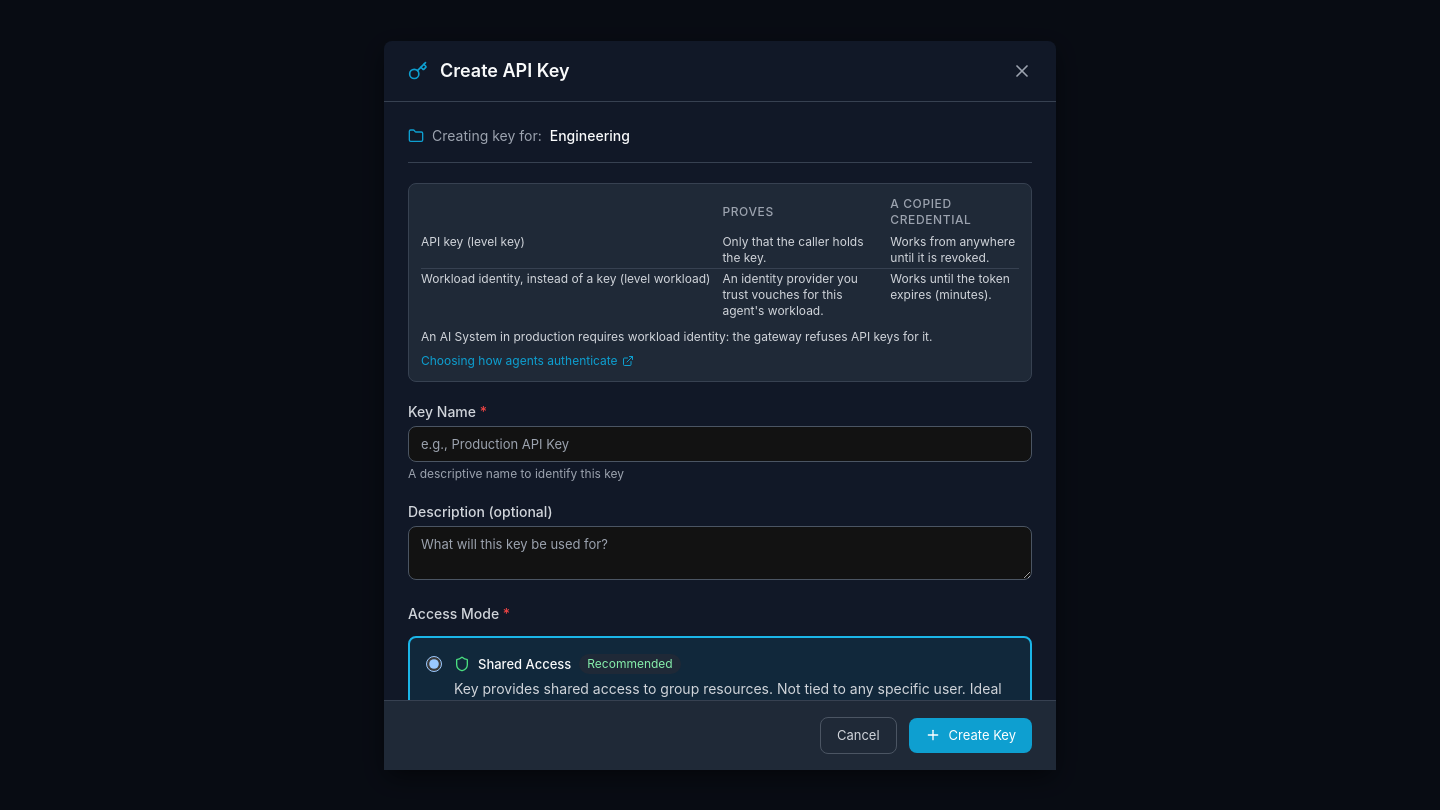
Test: CreateGroupKeyModal › a create the identity policy refuses says what the policy requires
Type "k" into the field with placeholder "e.g., Production API Key".
click(720, 444); type("k")  # box [408,426,1032,462]
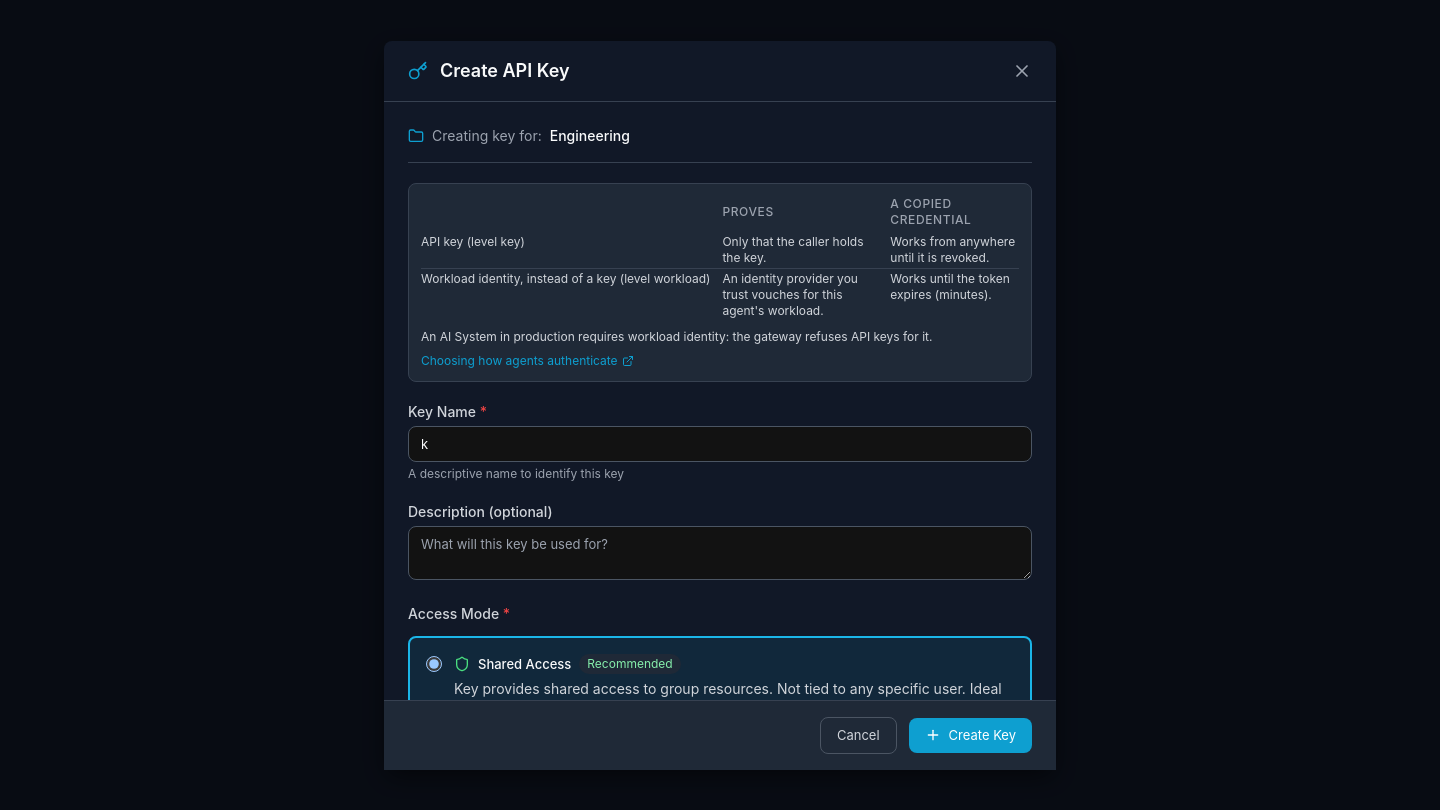
Click the button "Create Key".
click(970, 735)  # box [909,718,1032,752]
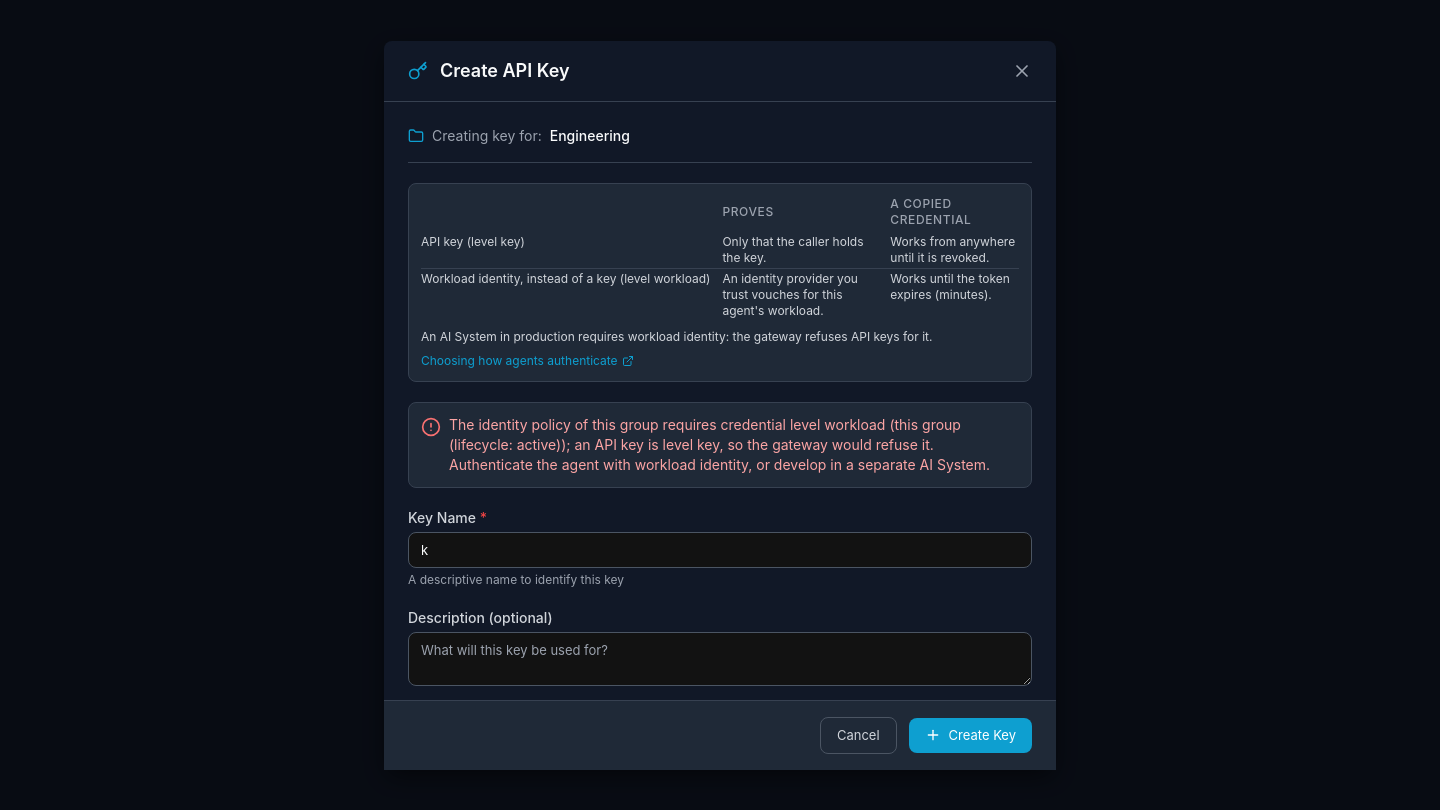
Expected: the text "requires credential level workload (this group (lifecycle: active))" is shown, [449,416,990,472]
